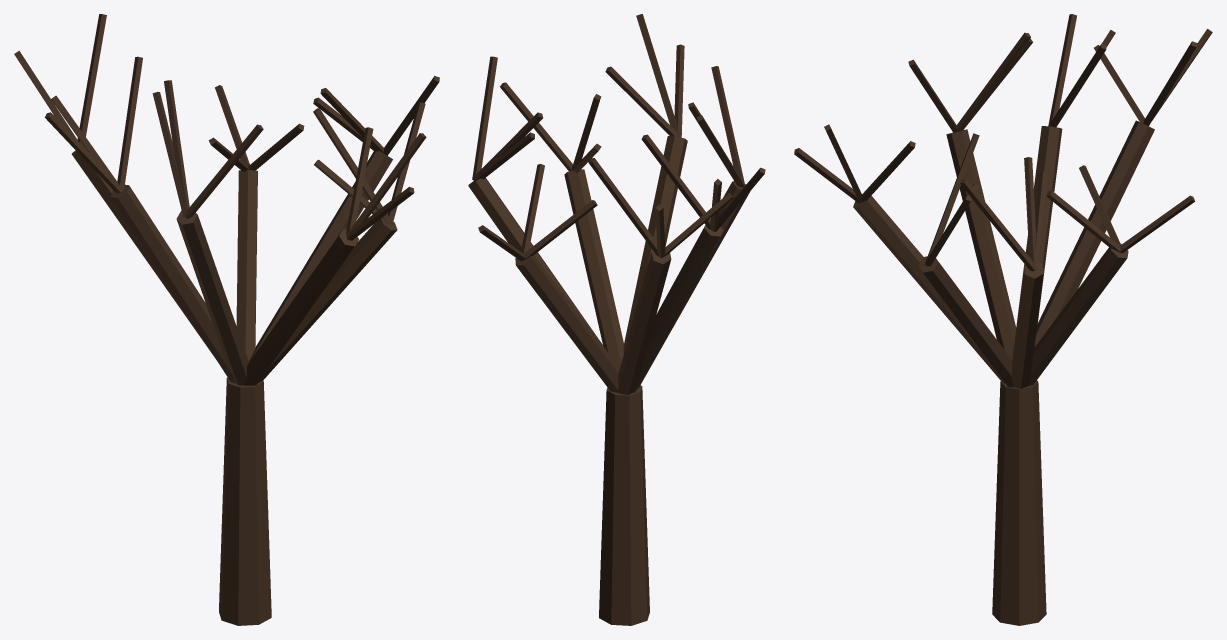
Rendered from landscape.tree.winter_large.glb.
3 views of the same model, side by side, from view 1: azimuth 30°, elevation 25°; view 2: azimuth 150°, elevation 25°; view 3: azimuth 270°, elevation 25° (orthographic). The views are drawn at different scales.
Parts seen in each view (by area): view 1: main__bark; view 2: main__bark; view 3: main__bark.
Boxes of the visible parts, x1=… form: main__bark: x1=14, y1=14, x2=439, y2=625; main__bark: x1=468, y1=14, x2=765, y2=625; main__bark: x1=794, y1=14, x2=1212, y2=625.
Bounding box in the file's own units: 7.94 × 12.31 × 8.55.
